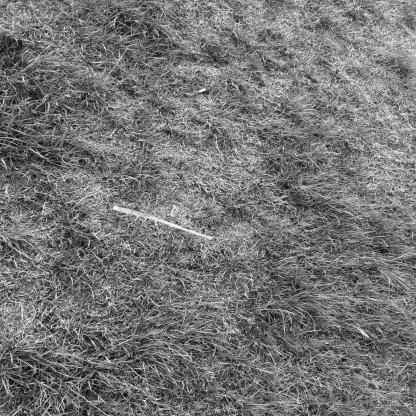plastic: (108, 206, 220, 249)
